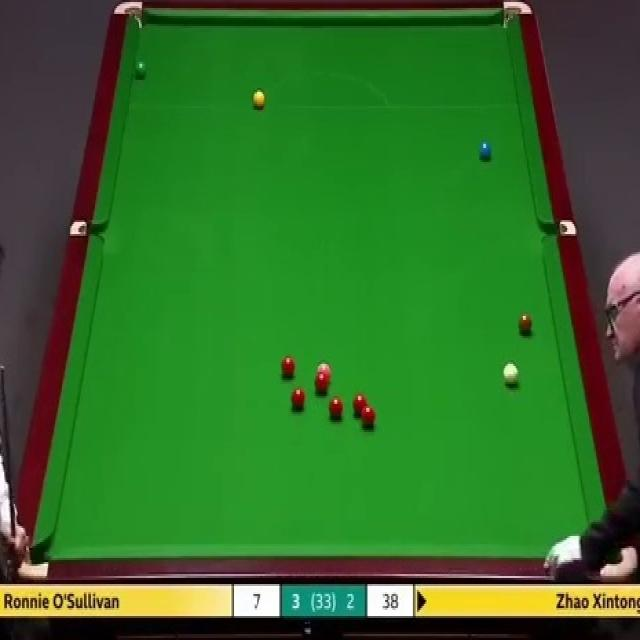pocket: (23, 543, 50, 582), (500, 0, 532, 32), (112, 0, 147, 29), (611, 549, 638, 582), (540, 218, 577, 237), (69, 218, 104, 238)
